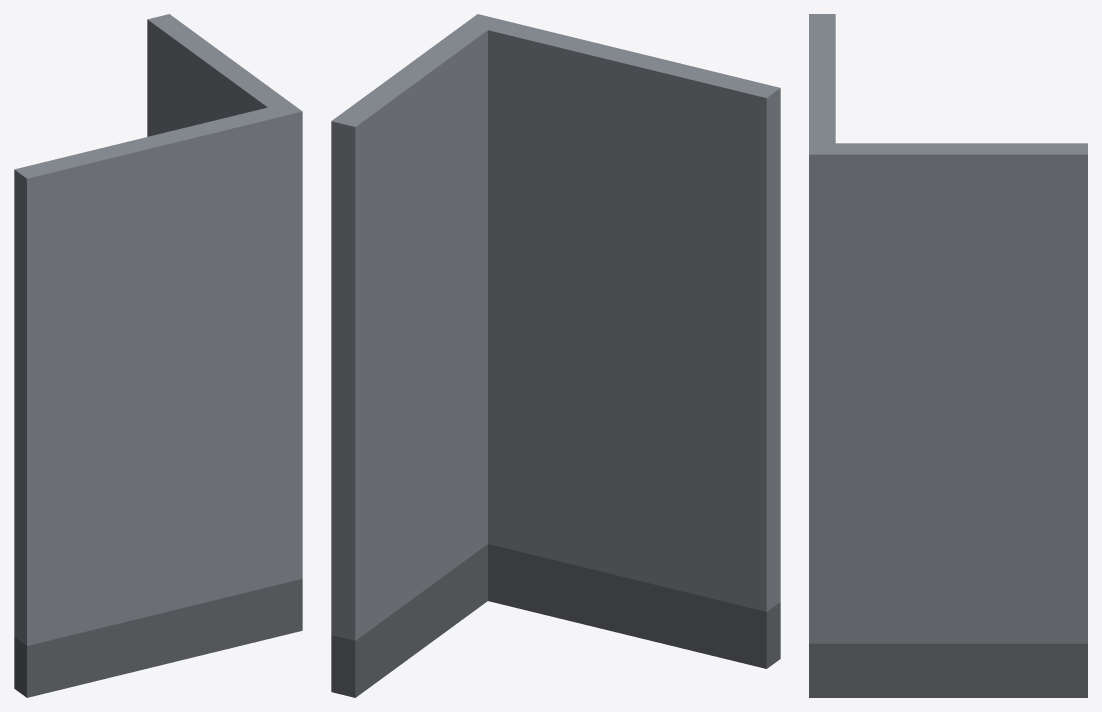
The model's file is Wall3_11.fbx.
3 renders of one model, left to right at view 1: azimuth 30°, elevation 25°; view 2: azimuth 150°, elevation 25°; view 3: azimuth 270°, elevation 25°, orthographic. The views are drawn at different scales.
Visible parts, largest first — view 1: Wall3_11; view 2: Wall3_11; view 3: Wall3_11.
Part boxes in pixels (x1,y1,x2,y2): Wall3_11: (14,14,302,697); Wall3_11: (331,14,780,697); Wall3_11: (809,14,1087,697).
Size of the model in its own units: 500 by 900 by 418.
